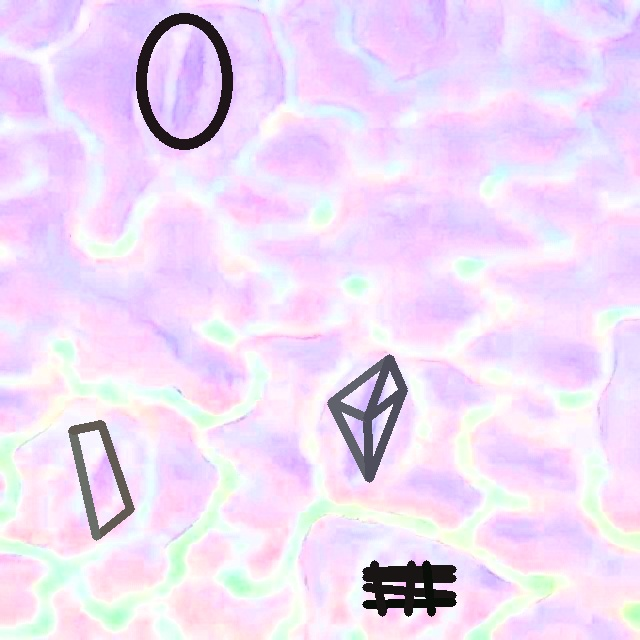open: (136, 13, 233, 148), (327, 354, 407, 482), (69, 421, 133, 539), (363, 561, 456, 615)
